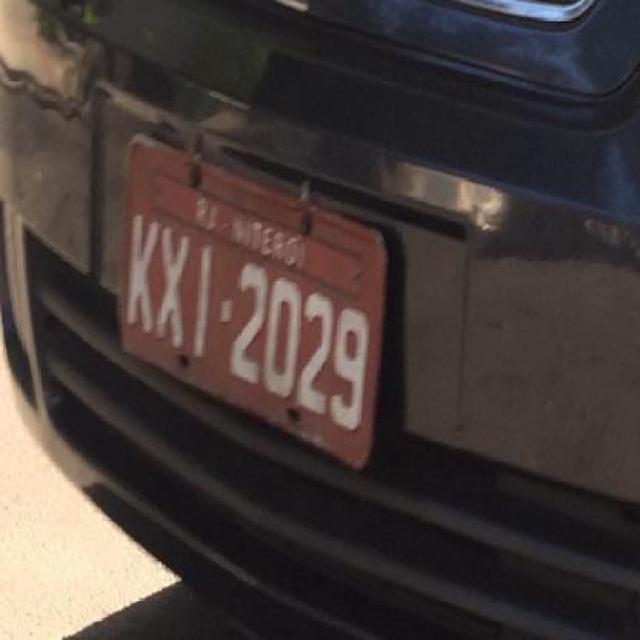old_plate: (114, 125, 398, 480)
